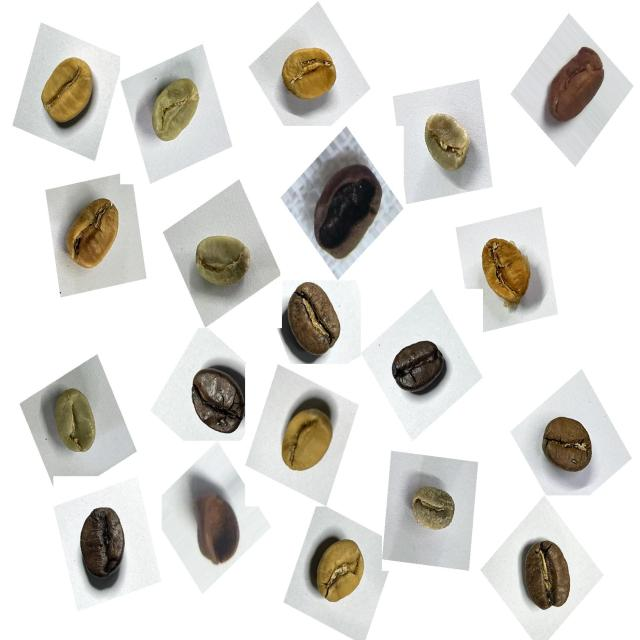bad: (304, 149, 391, 268), (534, 36, 614, 136), (183, 483, 249, 578)
dark: (65, 498, 137, 598), (384, 324, 454, 408)
green: (182, 218, 261, 304), (37, 379, 110, 470), (142, 68, 210, 157), (411, 101, 478, 187), (404, 471, 466, 543)
light: (50, 182, 131, 283), (30, 38, 108, 140), (267, 387, 343, 486), (466, 222, 542, 320), (304, 523, 379, 618), (270, 34, 346, 118)
medium: (278, 279, 354, 370), (511, 529, 585, 621), (180, 356, 254, 447), (530, 405, 606, 488)
